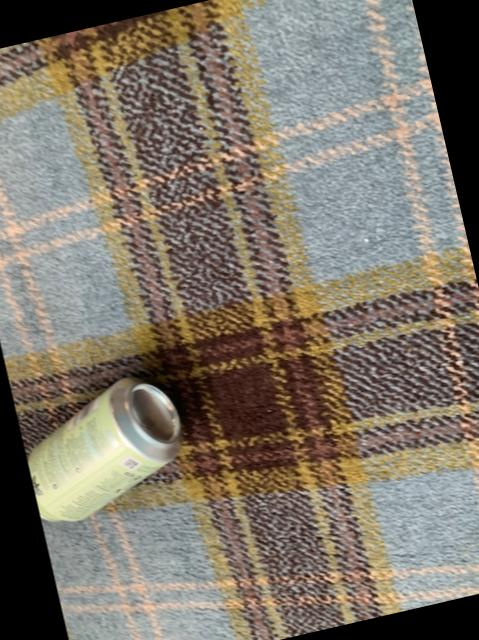metal: (27, 378, 181, 521)
